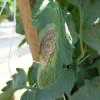Tomato leaf late blight: (30, 1, 78, 92)
